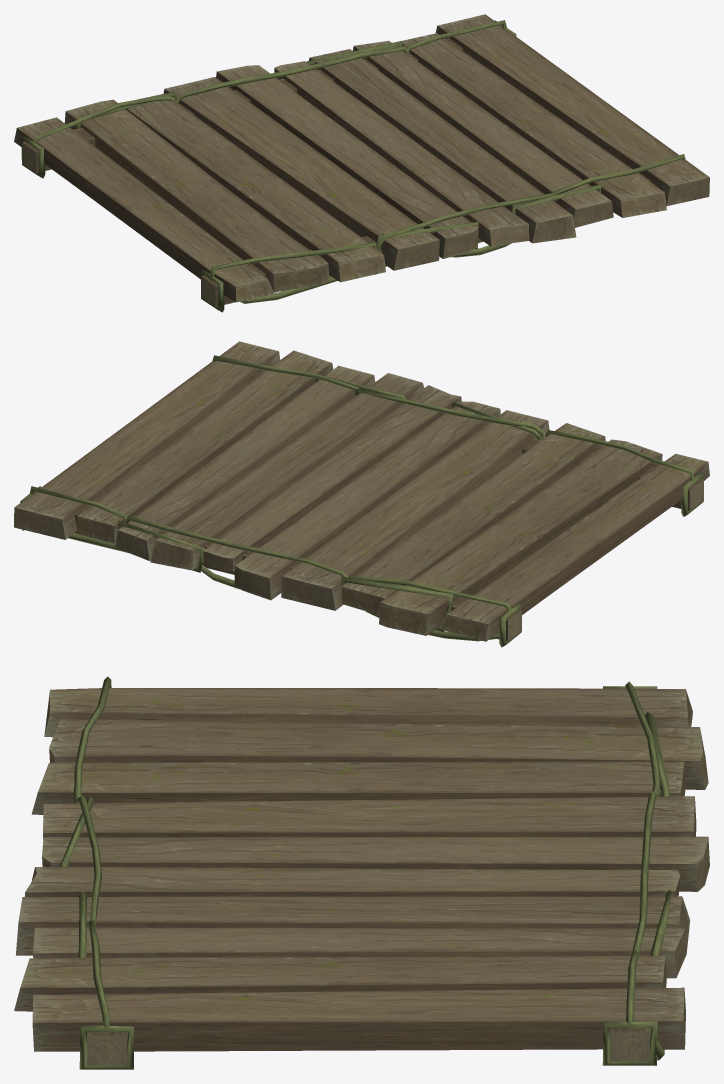
The model's file is Homeworld_Exterior_Xm_Rockery_Bridge_Qiao_01_Vo.fbx.
3 views of the same model, one above another, from view 1: azimuth 30°, elevation 25°; view 2: azimuth 150°, elevation 25°; view 3: azimuth 270°, elevation 25° (orthographic). The views are drawn at different scales.
Visible parts, largest first — view 1: Homeworld_Exterior_Xm_Rockery_Bridge_Qiao_01_Vo; view 2: Homeworld_Exterior_Xm_Rockery_Bridge_Qiao_01_Vo; view 3: Homeworld_Exterior_Xm_Rockery_Bridge_Qiao_01_Vo.
Boxes of the visible parts, x1,y1,x2,y2 form: Homeworld_Exterior_Xm_Rockery_Bridge_Qiao_01_Vo: (14,14,709,312); Homeworld_Exterior_Xm_Rockery_Bridge_Qiao_01_Vo: (14,341,709,647); Homeworld_Exterior_Xm_Rockery_Bridge_Qiao_01_Vo: (14,676,709,1069).
Bounding box in the file's own units: 4.63 × 0.4534 × 3.99.
